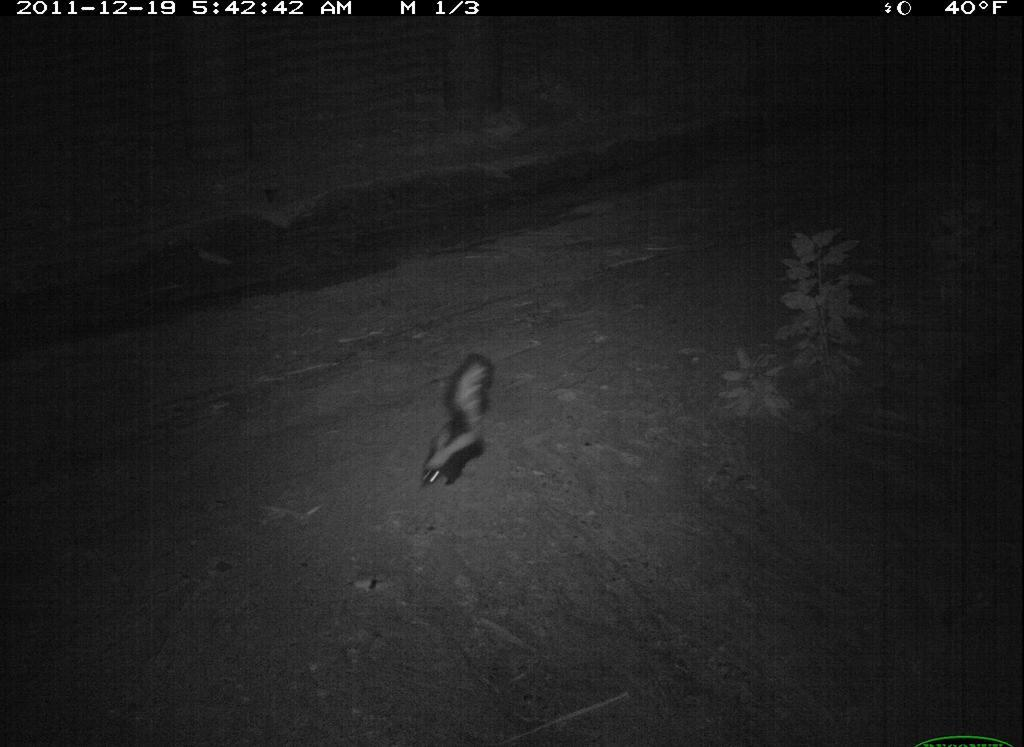skunk: (413, 350, 498, 493)
